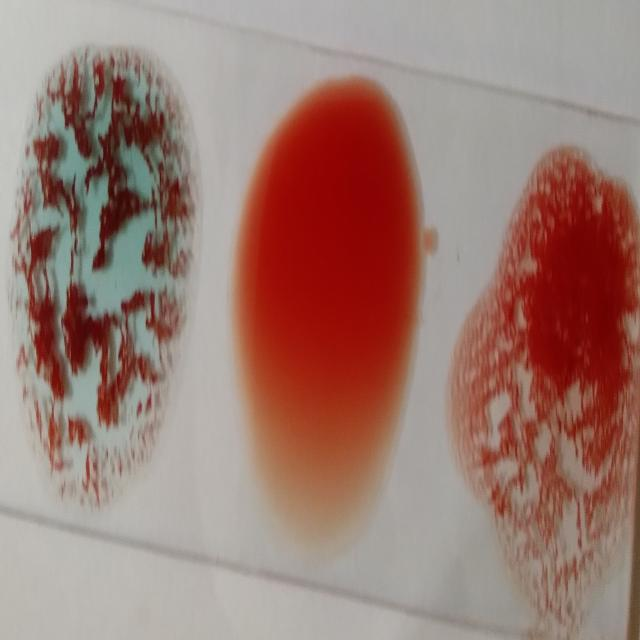A: (16, 49, 187, 504)
D: (480, 156, 640, 607)
